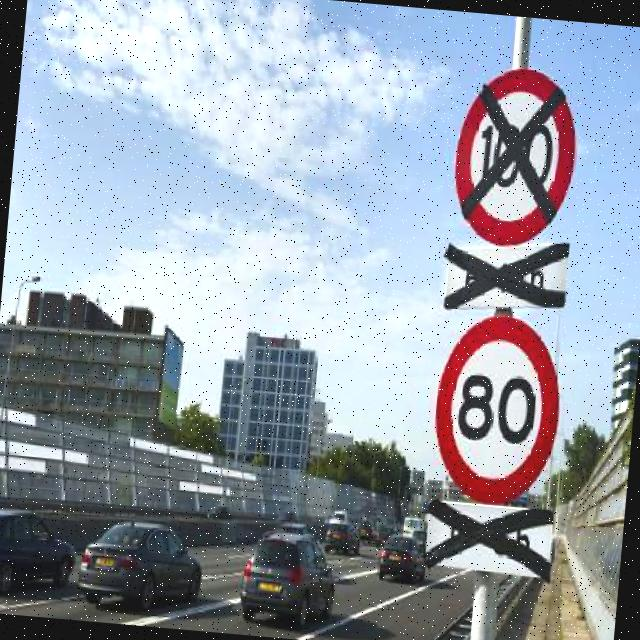Ograniczenie predkosci do 80: (432, 306, 568, 503)
